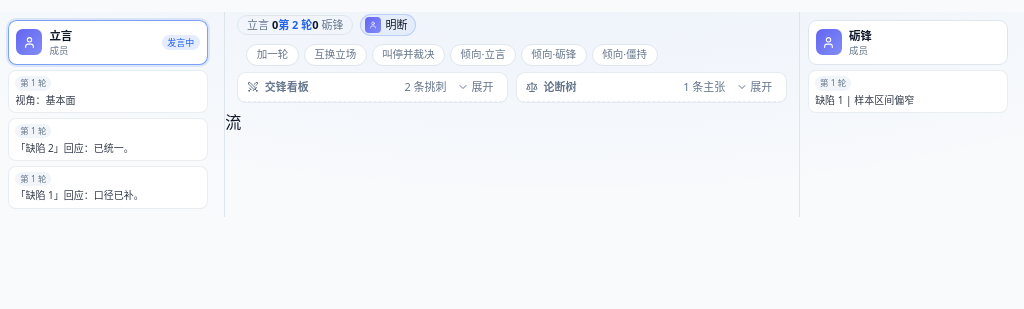
Test case: arena 集成：A2 交锋看板 / A5 参与条 / A6 结论条 › M85 洞察区收敛：无未响应时交锋看板默认收起（可展开）；论断树默认收起（可展开）
Expected: the element showing "交锋看板 2 条挑刺 展开" is shown, [237, 72, 508, 103]
Expected: the element showing "论断树 1 条主张 展开" is shown, [516, 72, 787, 103]
展开 → body 出现
Click the button "展开" next to "条主张".
click(754, 87)  # box [731, 78, 777, 96]
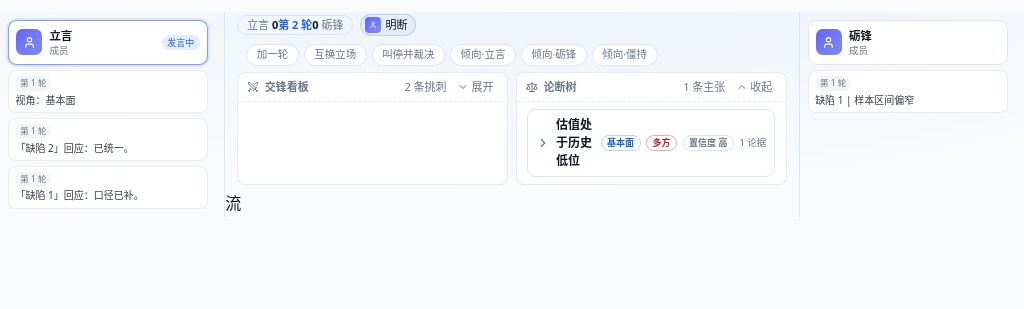
Expected: the list "估值处于历史低位 基本面 多方 置信度 高 1 论据" is shown, [525, 107, 778, 179]
Click the button "展开".
click(475, 87)  # box [452, 78, 498, 96]
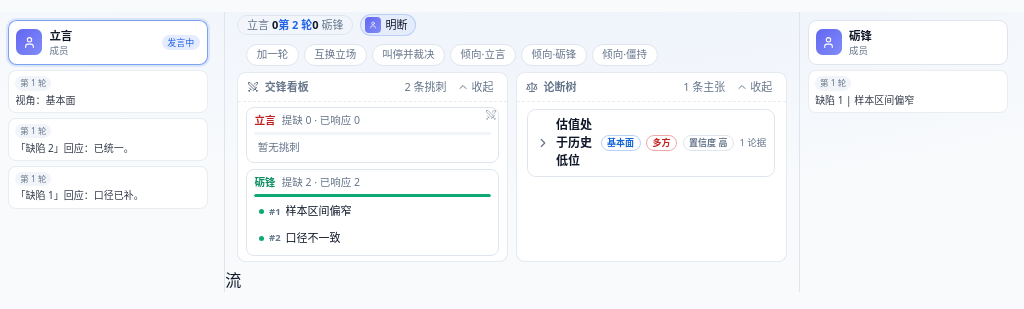
Expected: the element showing "立言 提缺 0 · 已响应 0 暂无挑刺 砺锋 提缺 2 · 已响应 2 #1 样本区间偏窄 #2 口径不一致" is shown, [238, 102, 507, 261]
